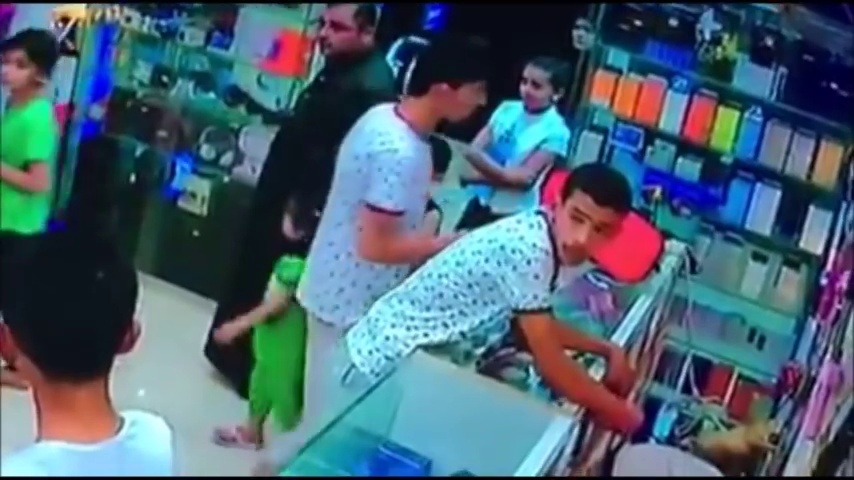face: (559, 190, 609, 262), (310, 4, 369, 65), (519, 61, 553, 114), (569, 15, 598, 47)
